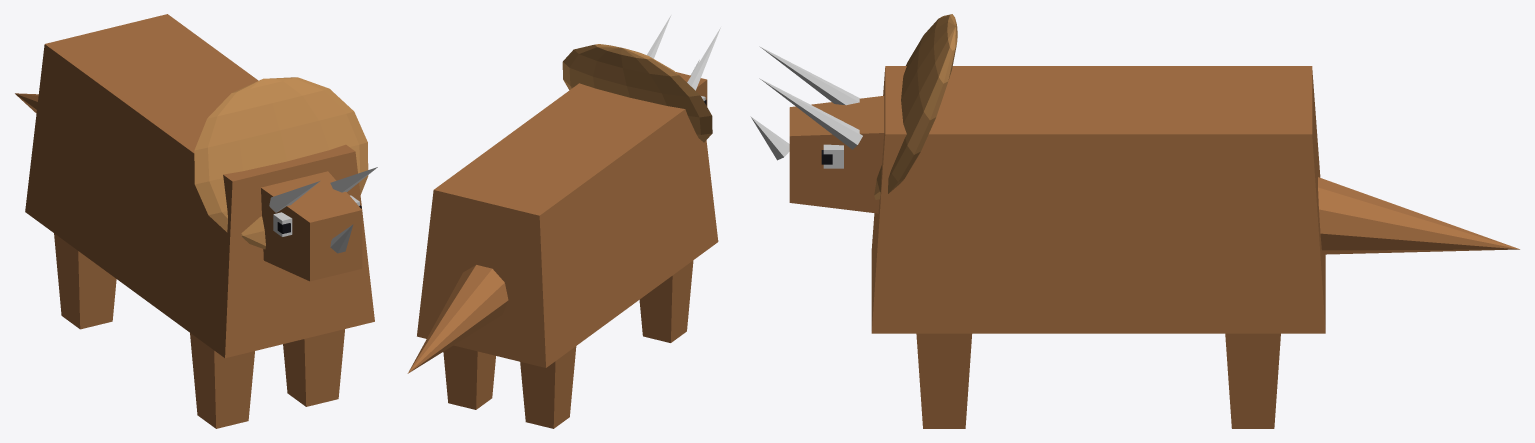
File: triceratops.glb
3 renders of one model, left to right at view 1: azimuth 30°, elevation 25°; view 2: azimuth 150°, elevation 25°; view 3: azimuth 270°, elevation 25°, orthographic. The views are drawn at different scales.
Visible parts, largest first — view 1: triceratops; view 2: triceratops; view 3: triceratops.
Part boxes in pixels (bbox=[...]): triceratops: bbox=[15, 14, 377, 428]; triceratops: bbox=[407, 15, 720, 428]; triceratops: bbox=[750, 14, 1519, 428].
Size of the model in its own units: 1.5 by 2.69 by 5.09.
